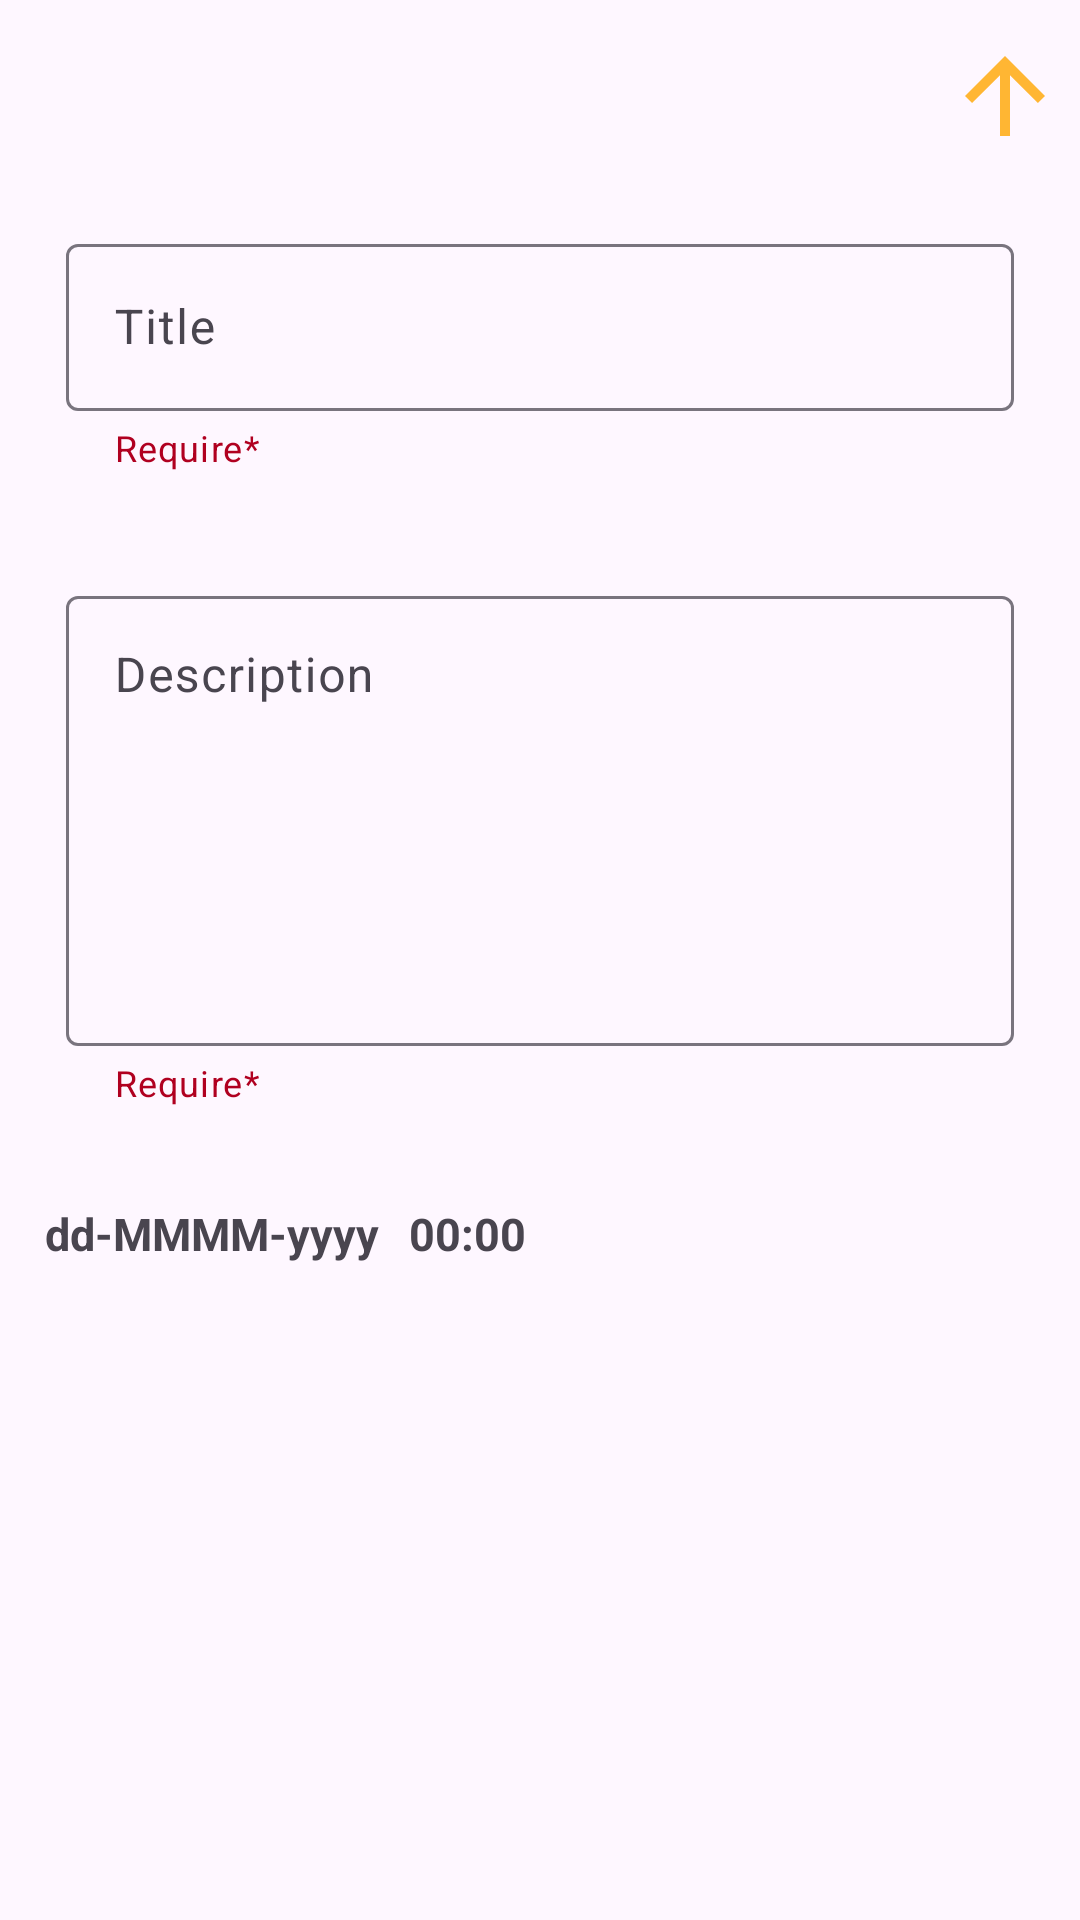

Named icons in this screenshot (1080 × 1920) and their bounding boxes, (left=x1, top=y1, right=x2, bottom=y2):
update: (left=965, top=56, right=1045, bottom=136)
